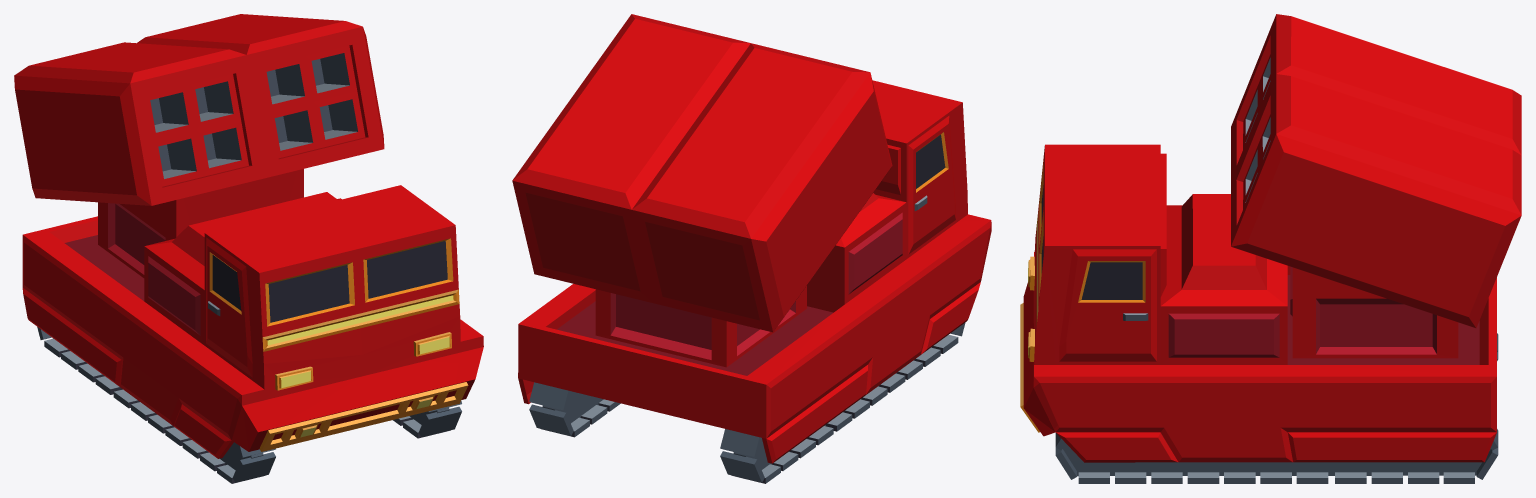
The model's file is Missle_Vehicles_Red.fbx.
3 views of the same model, side by side, from view 1: azimuth 30°, elevation 25°; view 2: azimuth 150°, elevation 25°; view 3: azimuth 270°, elevation 25° (orthographic). The views are drawn at different scales.
Visible parts, largest first — view 1: Missle_Vehicles_Red; view 2: Missle_Vehicles_Red; view 3: Missle_Vehicles_Red.
Boxes of the visible parts, x1=… form: Missle_Vehicles_Red: x1=14, y1=14, x2=483, y2=483; Missle_Vehicles_Red: x1=512, y1=14, x2=991, y2=483; Missle_Vehicles_Red: x1=1020, y1=14, x2=1521, y2=483.
Size of the model in its own units: 162 by 211 by 269.
1 material, 1 textured.
